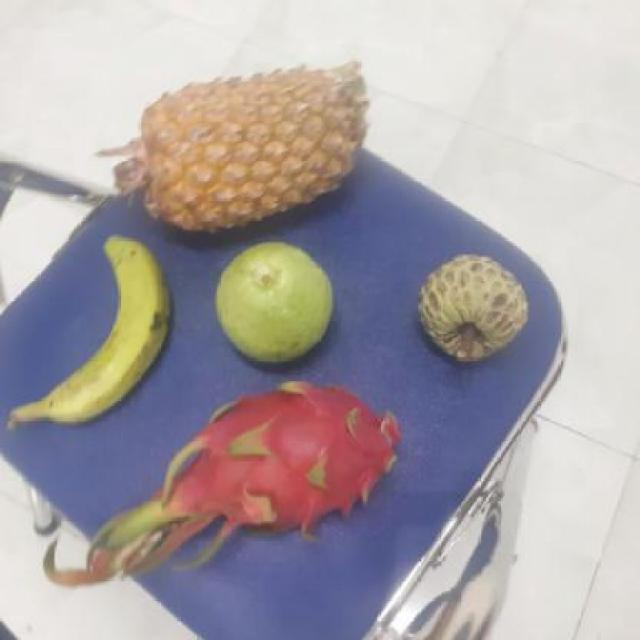banana: (42, 237, 176, 428)
dragon fruit: (167, 383, 415, 539)
guava: (215, 242, 338, 362)
pineapple: (137, 66, 365, 240)
sugar apple: (419, 253, 536, 364)
